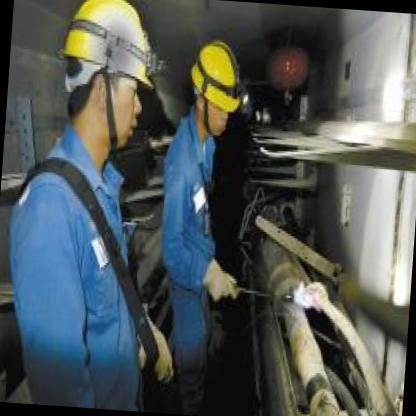helmet: (54, 0, 151, 152), (188, 38, 248, 142)
